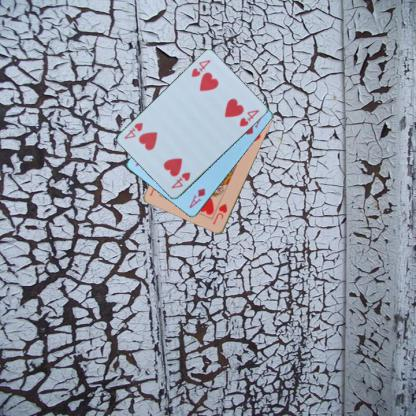4h: (189, 57, 212, 79), (169, 170, 192, 190)
Ad: (186, 185, 206, 210)
Jh: (210, 202, 229, 226)
